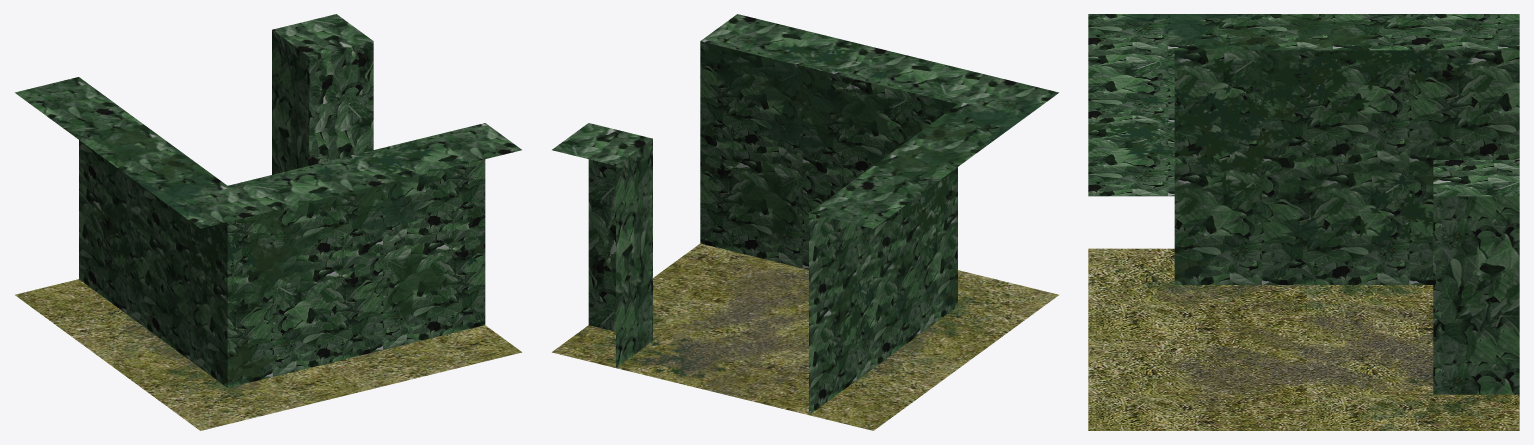
Rendered from 4-5_Wall_Turn.fbx.
3 renders of one model, left to right at view 1: azimuth 30°, elevation 25°; view 2: azimuth 150°, elevation 25°; view 3: azimuth 270°, elevation 25°, orthographic. The views are drawn at different scales.
Parts seen in each view (by area): view 1: Floor1; view 2: Floor1; view 3: Floor1.
Boxes of the visible parts, left/top/right/bottom form: Floor1: left=15, top=14, right=521, bottom=430; Floor1: left=552, top=14, right=1058, bottom=430; Floor1: left=1088, top=14, right=1519, bottom=430.
Size of the model in its own units: 100 by 60 by 100.
1 material, 1 textured.
